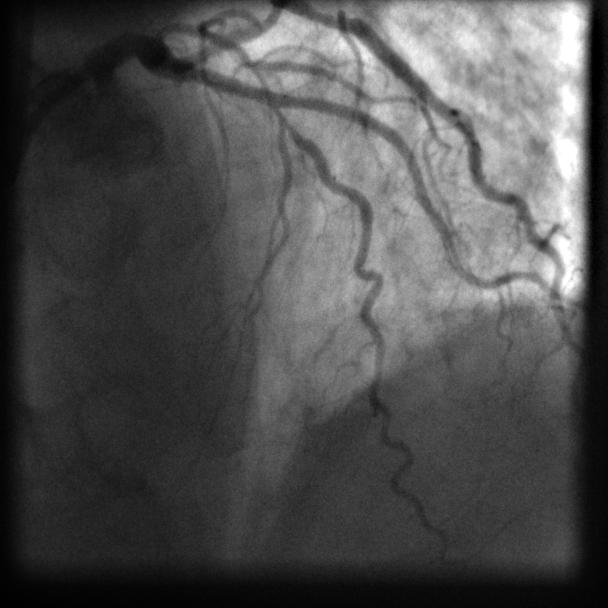Stenosis: (244, 58, 287, 126)
